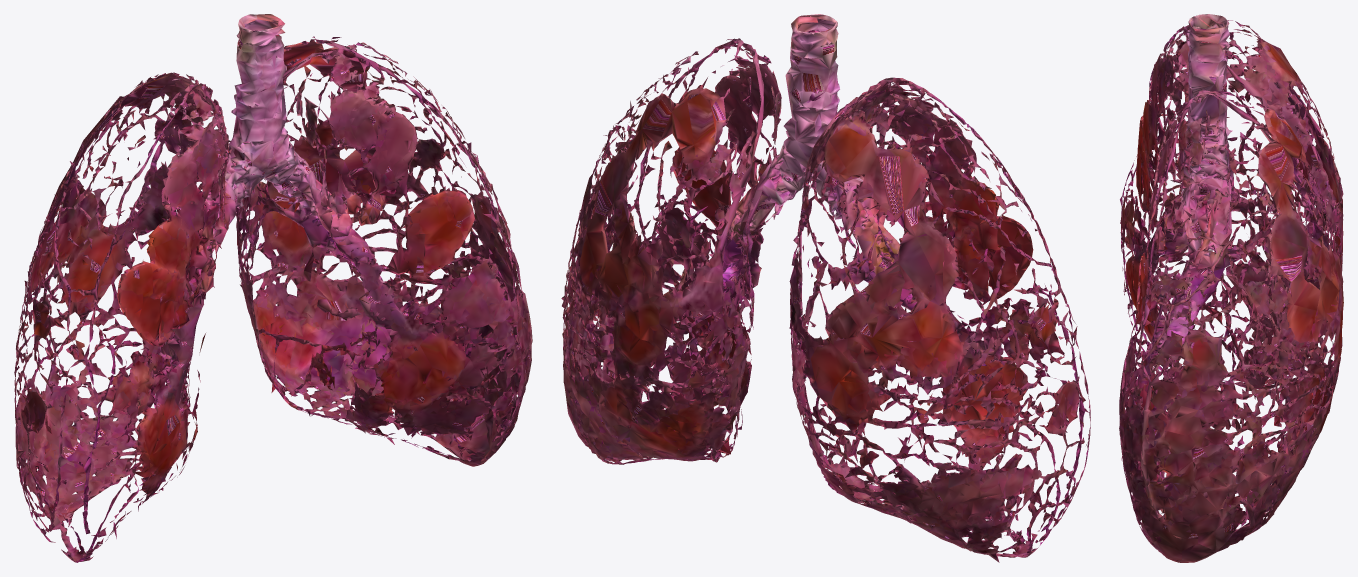
File: lung-lung-lung-pneumonia.glb
The picture shows the model from 3 angles, left to right: view 1: azimuth 30°, elevation 25°; view 2: azimuth 150°, elevation 25°; view 3: azimuth 270°, elevation 25°; orthographic projection. The views are drawn at different scales.
Visible parts, largest first — view 1: Lung; view 2: Lung; view 3: Lung.
Part boxes in pixels (left/top/right/bottom): Lung: left=14, top=14, right=532, bottom=562; Lung: left=561, top=14, right=1090, bottom=562; Lung: left=1119, top=14, right=1343, bottom=562.
Bounding box in the file's own units: 0.2015 × 0.1916 × 0.0864.
1 material, 1 textured.
